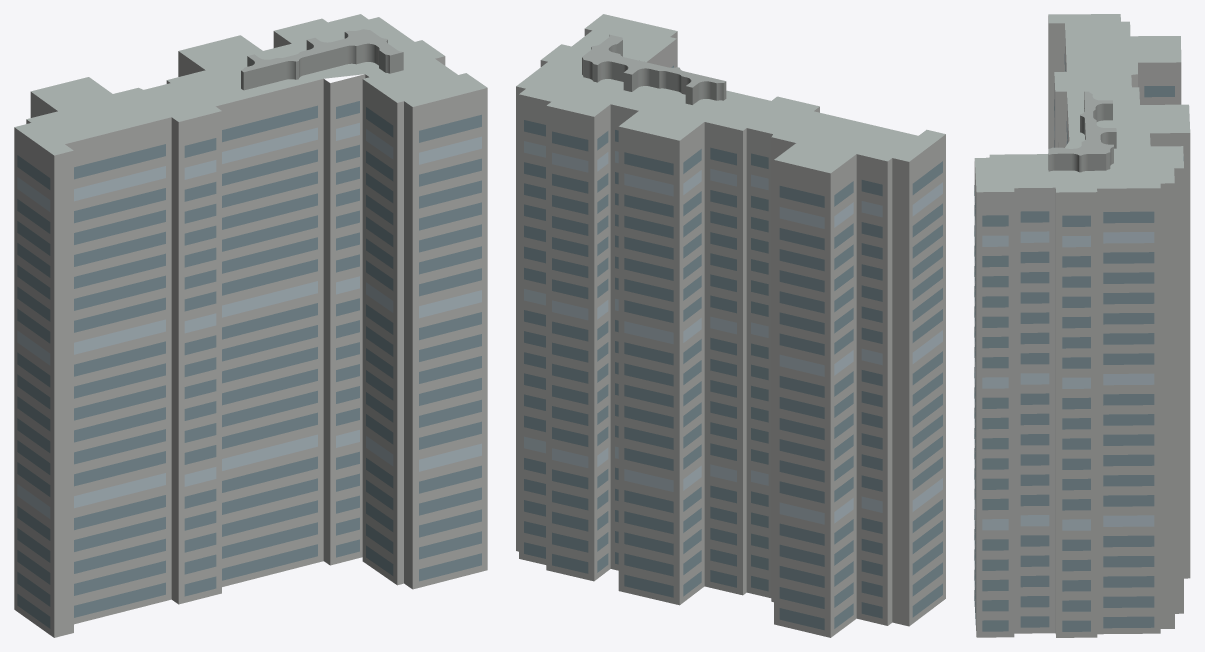
The model's file is fallback-godeok-arteon-completion-329.glb.
The picture shows the model from 3 angles, left to right: view 1: azimuth 30°, elevation 25°; view 2: azimuth 150°, elevation 25°; view 3: azimuth 270°, elevation 25°; orthographic projection. The views are drawn at different scales.
Parts seen in each view (by area): view 1: fallback-godeok-arteon-completion-329; view 2: fallback-godeok-arteon-completion-329; view 3: fallback-godeok-arteon-completion-329.
Part boxes in pixels (box(x1,y1,x2,y2)): fallback-godeok-arteon-completion-329: box(14, 14, 487, 637); fallback-godeok-arteon-completion-329: box(516, 14, 945, 637); fallback-godeok-arteon-completion-329: box(974, 14, 1190, 637).
Bounding box in the file's own units: 54.72 × 66 × 27.96.
